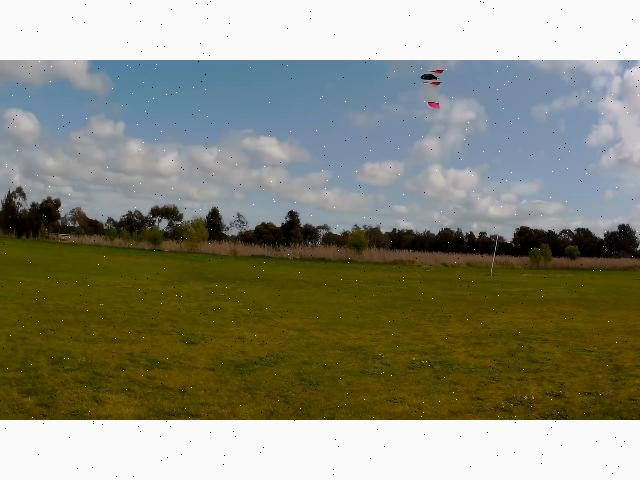Anti-Drone: (398, 60, 460, 118)
